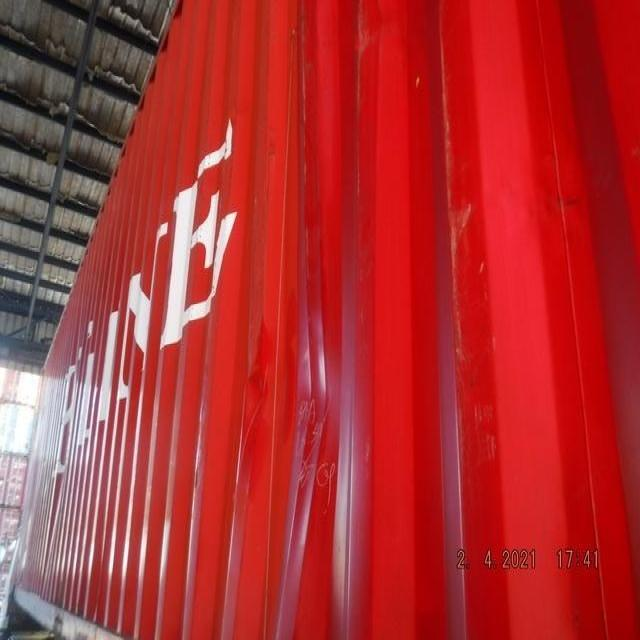dent: (196, 220, 374, 569)
